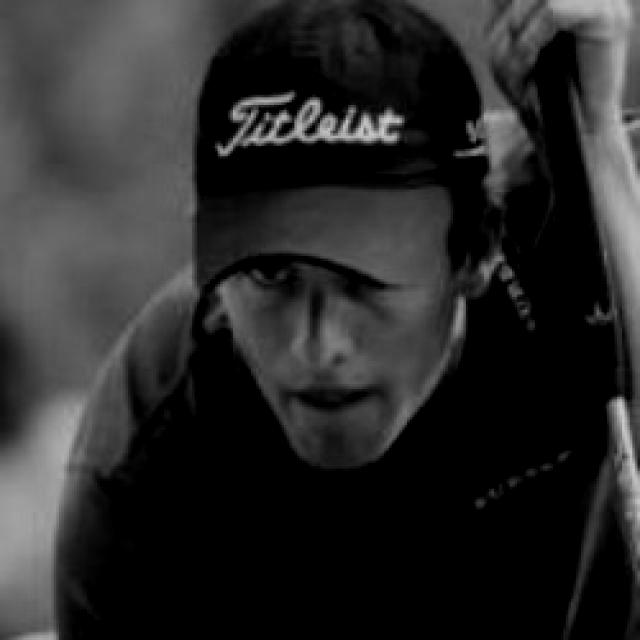real: (198, 74, 487, 486), (233, 261, 323, 294)
